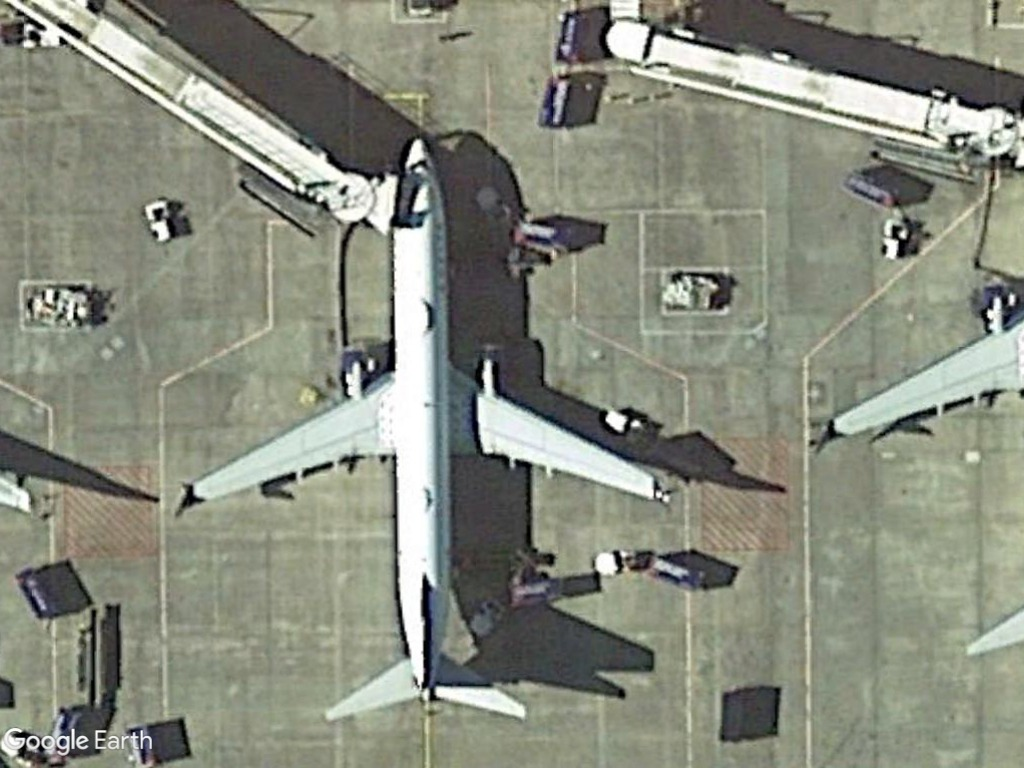airliner: (168, 122, 670, 724)
